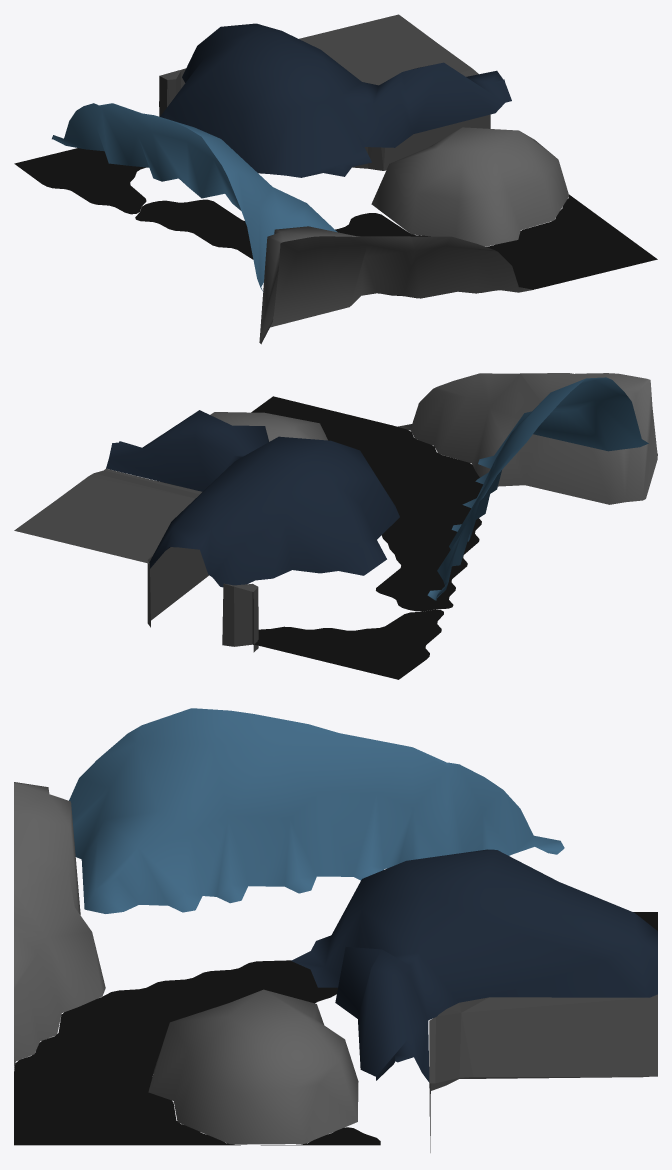
The model's file is newsho-45.glb.
3 views of the same model, one above another, from view 1: azimuth 30°, elevation 25°; view 2: azimuth 150°, elevation 25°; view 3: azimuth 270°, elevation 25° (orthographic). The views are drawn at different scales.
Visible parts, largest first — view 1: newsho-45; view 2: newsho-45; view 3: newsho-45.
Part boxes in pixels (<box>): newsho-45: <box>14,14,657,344</box>; newsho-45: <box>14,373,657,679</box>; newsho-45: <box>14,708,657,1152</box>.
Bounding box in the file's own units: 2 × 0.857 × 2.33.
